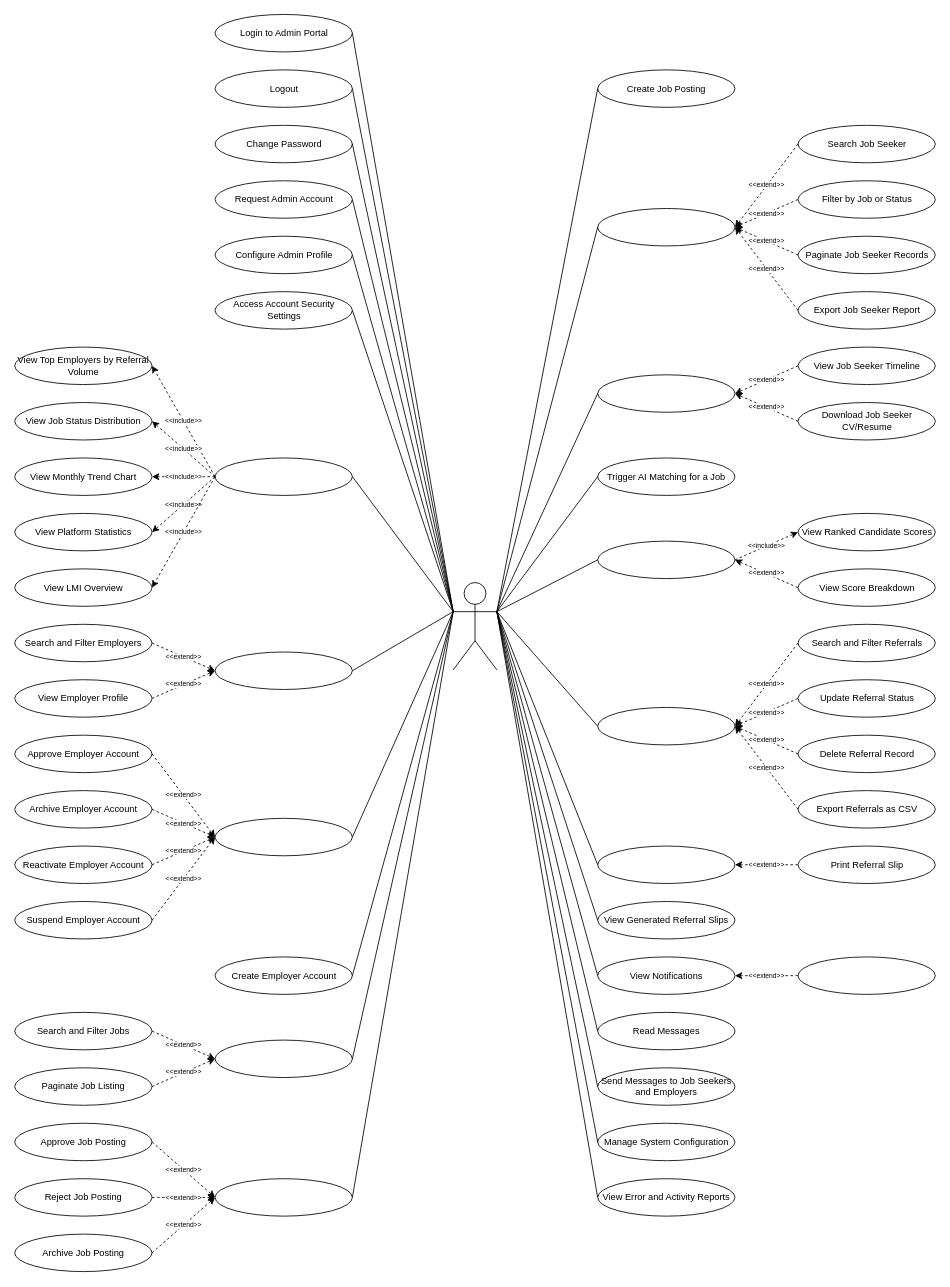
Image size: 950x1287. Some labels were removed from this diagram. Each missing label, with the box of its shape:
Administrator (Authenticated User): (452, 582, 497, 670)
Generate PESO Referral Slip: (597, 845, 735, 884)
Mark Notification as Read: (797, 956, 935, 994)
Review Employer Account: (214, 817, 352, 856)
View Admin Dashboard Overview: (214, 457, 352, 495)
View AI Match Report per Job: (597, 540, 735, 579)
View All Employers: (214, 651, 352, 689)
View All Job Postings: (214, 1039, 352, 1078)
View All Job Seekers: (597, 208, 735, 246)
View Job Posting Details: (214, 1178, 352, 1216)
View Job Seeker Profile: (597, 374, 735, 412)
View Referral Records: (597, 707, 735, 745)
